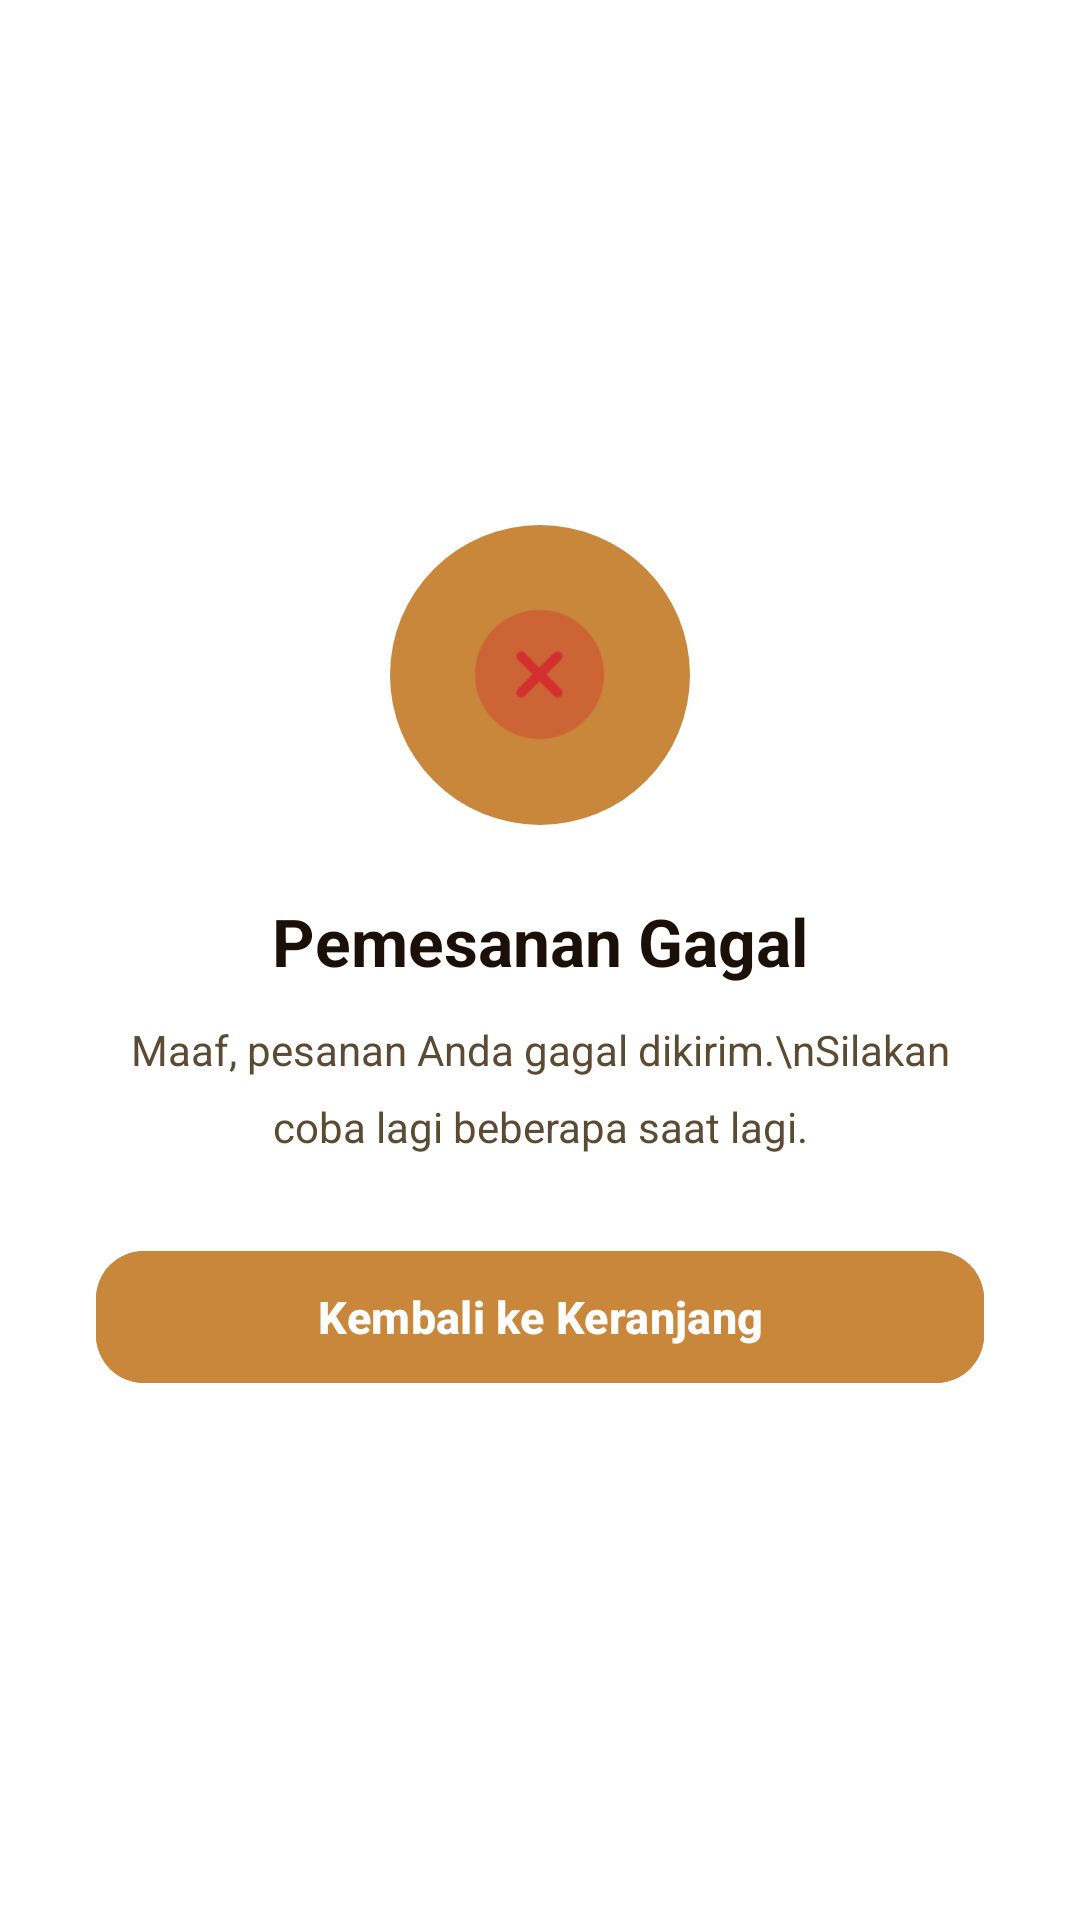

Icons on this 1080×1920 Android screen, each with the point to tap as point (x, y):
Failed: point (540, 675)
